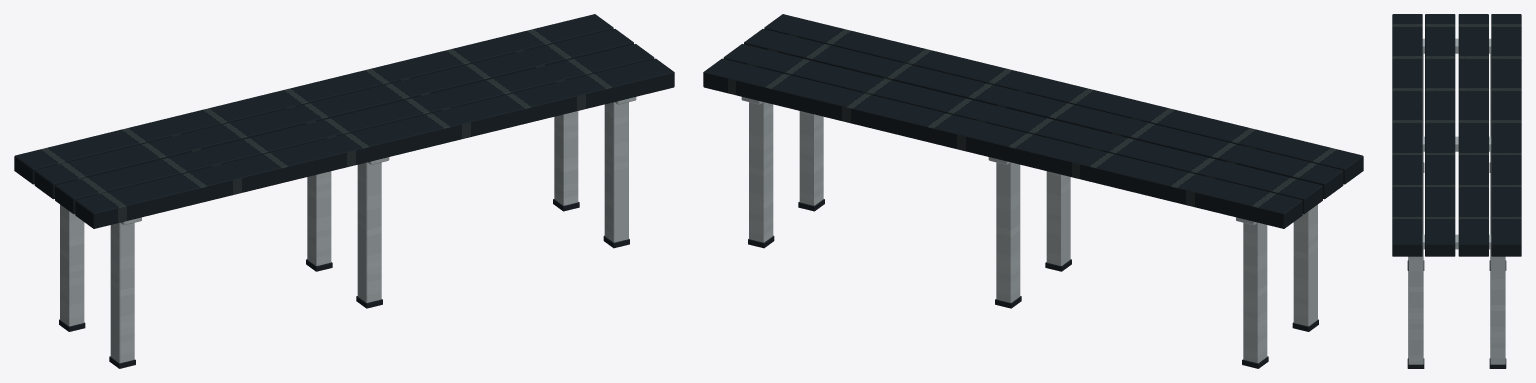
The model's file is pool_bench.glb.
3 views of the same model, side by side, from view 1: azimuth 30°, elevation 25°; view 2: azimuth 150°, elevation 25°; view 3: azimuth 270°, elevation 25° (orthographic). The views are drawn at different scales.
Visible parts, largest first — view 1: pool_pool_bench; view 2: pool_pool_bench; view 3: pool_pool_bench.
Boxes of the visible parts, <box> form: pool_pool_bench: <box>14,14,674,368</box>; pool_pool_bench: <box>703,14,1363,368</box>; pool_pool_bench: <box>1392,14,1521,368</box>.
Bounding box in the file's own units: 1.6 × 0.45 × 0.379.
3 materials, 3 textured.
